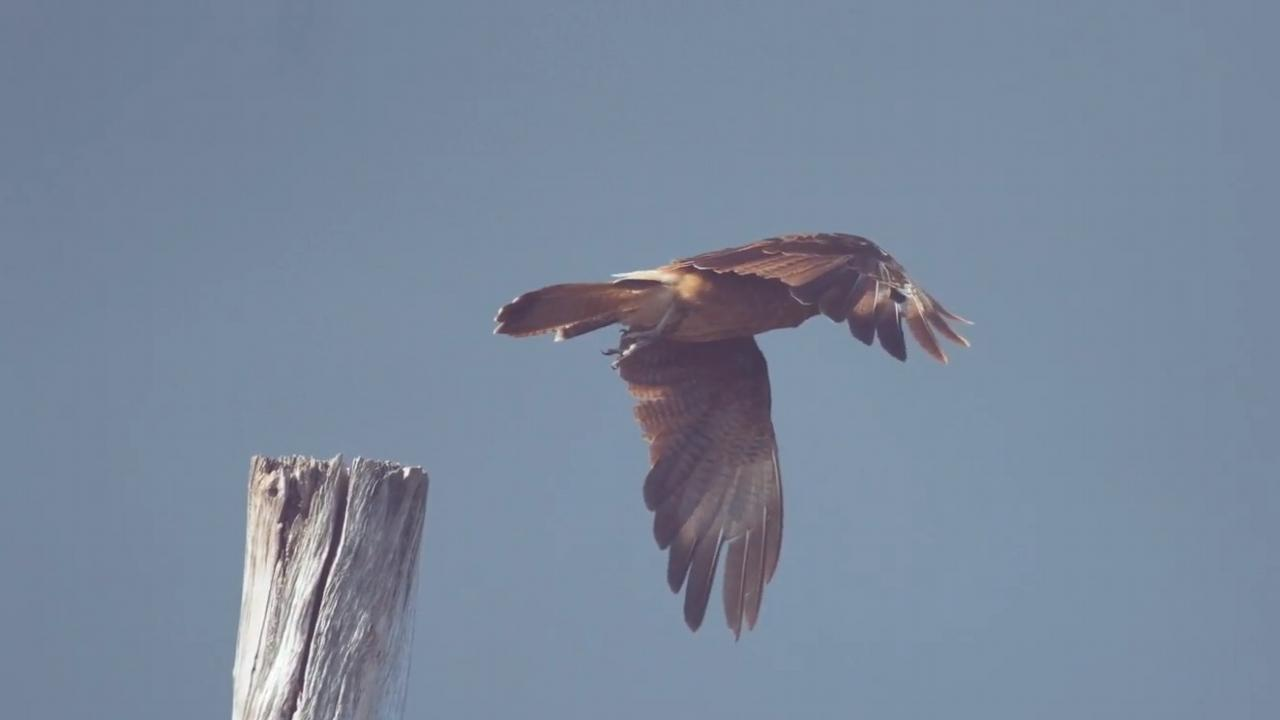Bird: (485, 220, 985, 648)
